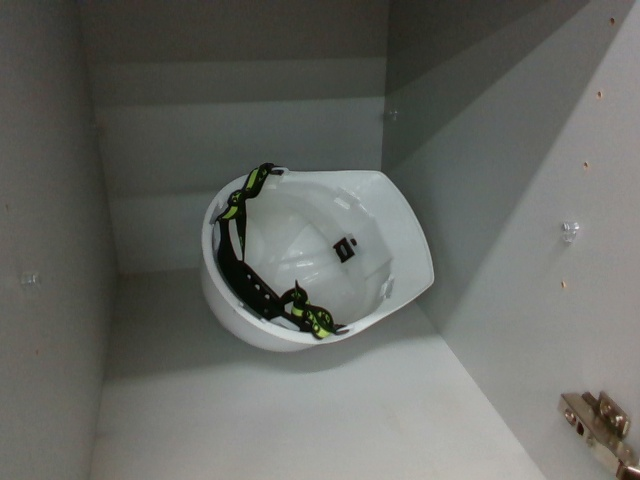helmet: (193, 161, 441, 354)
